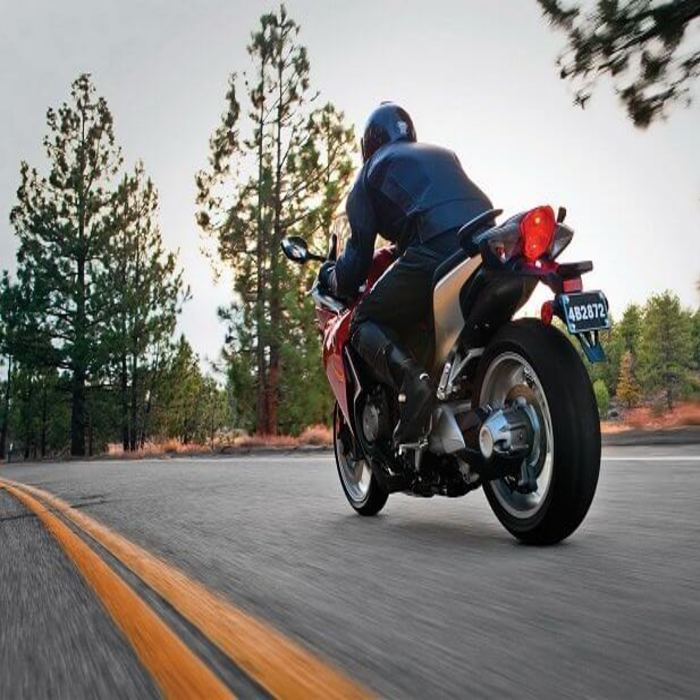h: (359, 99, 418, 160)
n: (561, 291, 612, 334)
